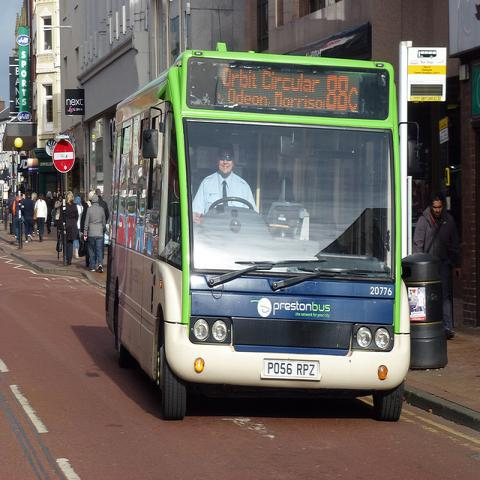bus: (104, 40, 412, 418)
